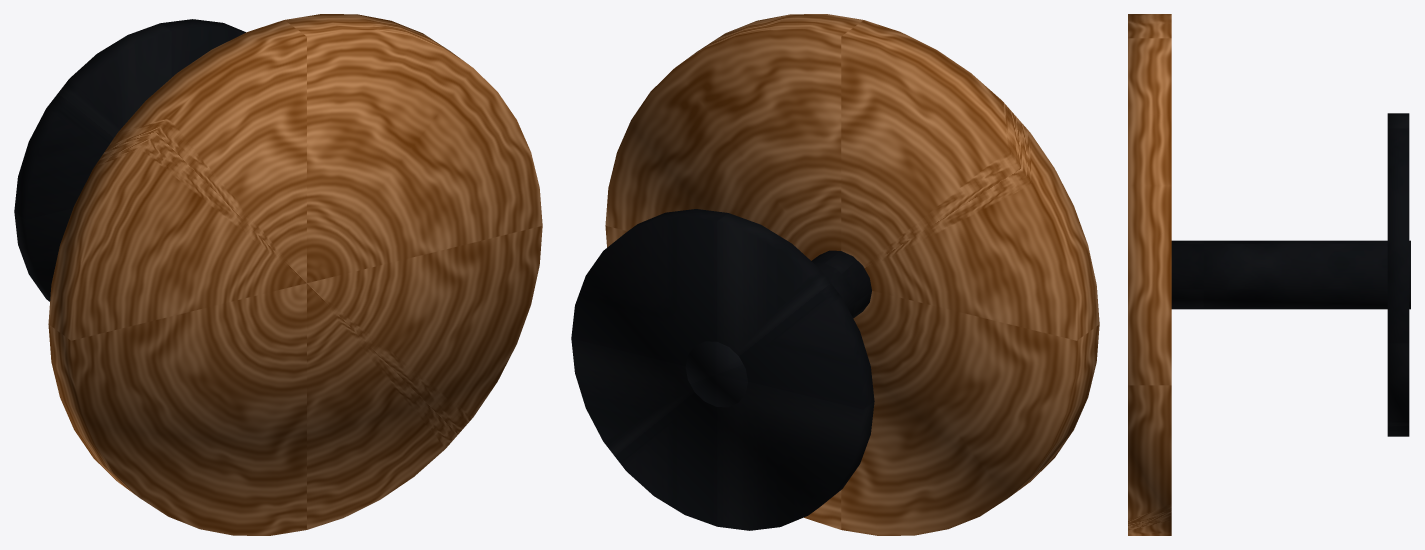
The model's file is TABLE_COFFEE_ROUND_001.glb.
The picture shows the model from 3 angles, left to right: view 1: azimuth 30°, elevation 25°; view 2: azimuth 150°, elevation 25°; view 3: azimuth 270°, elevation 25°; orthographic projection. The views are drawn at different scales.
Parts seen in each view (by area): view 1: round_top_000, base_002; view 2: round_top_000, base_002, pedestal_001; view 3: round_top_000, pedestal_001, base_002.
Part boxes in pixels (x1,y1,x2,y2): round_top_000: [48, 14, 542, 535]; base_002: [14, 19, 245, 301]; round_top_000: [605, 14, 1099, 535]; base_002: [571, 209, 874, 530]; pedestal_001: [685, 250, 871, 407]; round_top_000: [1128, 14, 1171, 535]; pedestal_001: [1171, 240, 1410, 309]; base_002: [1387, 113, 1409, 436].
Bounding box in the file's own units: 0.84 × 0.84 × 0.455.
Materials: 2 (2 with a texture image).
